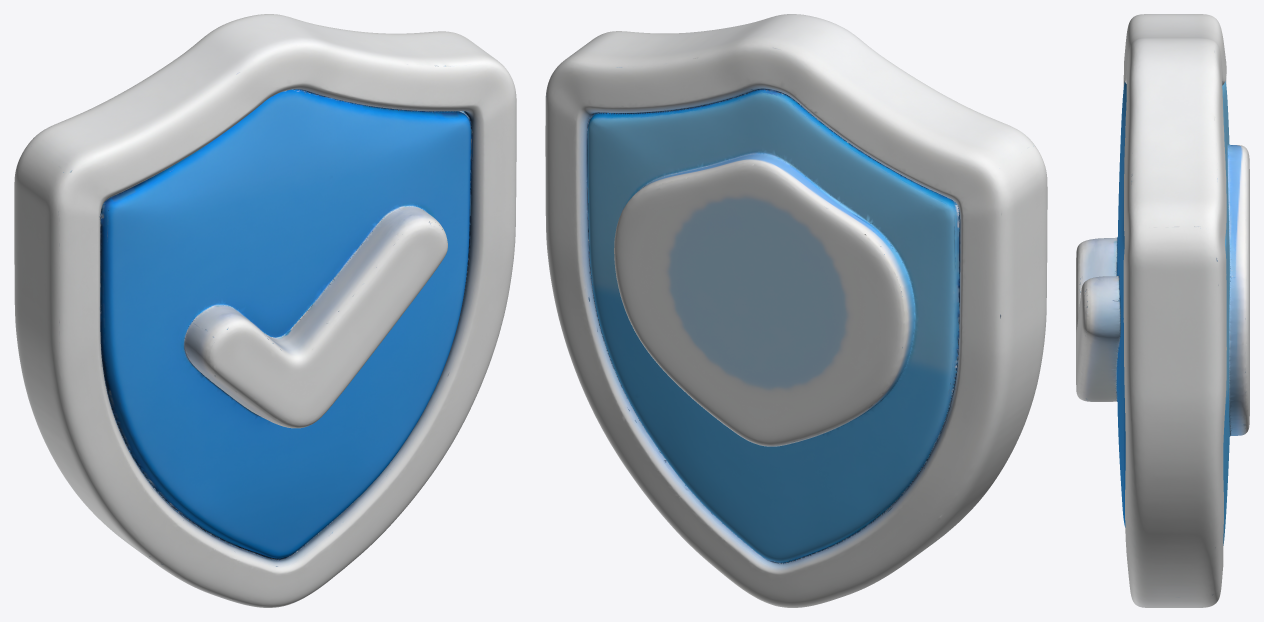
The model's file is Meshy_AI_Security_Badge_0129204239_texture.glb.
The picture shows the model from 3 angles, left to right: view 1: azimuth 30°, elevation 25°; view 2: azimuth 150°, elevation 25°; view 3: azimuth 270°, elevation 25°; orthographic projection. The views are drawn at different scales.
Bounding box in the file's own units: 1.72 × 2 × 0.5706.
1 material, 1 textured.
